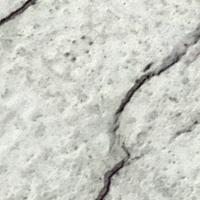crack: (1, 1, 199, 199)
